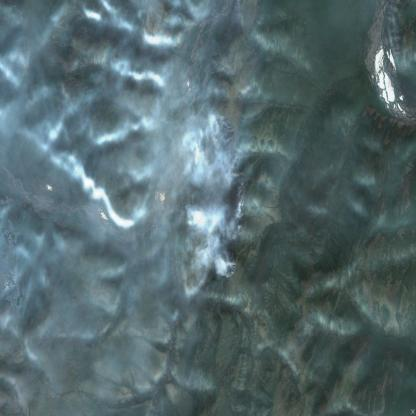fire: (187, 98, 251, 285)
